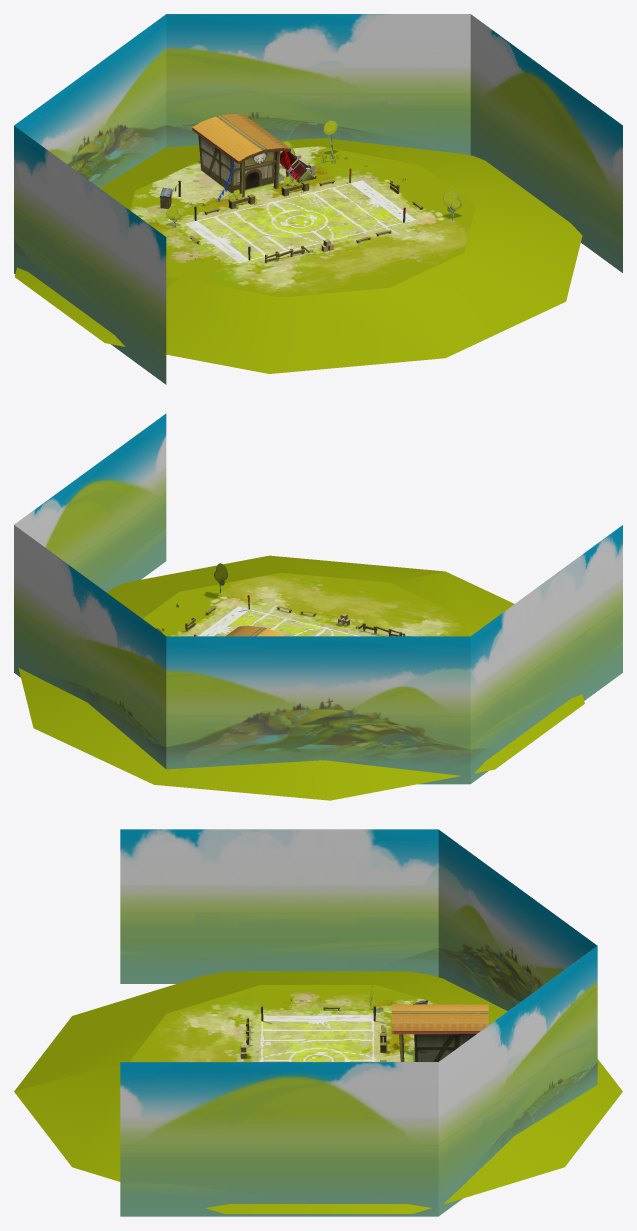
The picture shows the model from 3 angles, top to bottom: view 1: azimuth 30°, elevation 25°; view 2: azimuth 150°, elevation 25°; view 3: azimuth 270°, elevation 25°; orthographic projection. The views are drawn at different scales.
Parts seen in each view (by area): view 1: colline, env_top_3, env_top_04, env_top_1, env_top_2, env_bottom_3, env_bottom_1, env_bottom_4, grange_a_01_toit, grange_a_01, env_bottom_2, pitidrapeaux_d; view 2: colline, env_top_2, env_top_1, env_top_3, env_top_04, env_bottom_2, env_bottom_1, env_bottom_3, env_bottom_4; view 3: colline, env_top_1, env_top_04, env_top_3, env_top_2, env_bottom_4, env_bottom_1, env_bottom_3, grange_a_01_toit, env_bottom_2, grange_a_01.
Boxes of the visible parts, x1,y1,x2,y2 form: colline: (15,138,582,373); env_top_3: (166,14,470,119); env_top_04: (470,14,622,230); env_top_1: (14,126,166,341); env_top_2: (14,14,166,177); env_bottom_3: (166,119,470,155); env_bottom_1: (14,231,166,384); env_bottom_4: (470,120,622,272); grange_a_01_toit: (192,114,290,164); grange_a_01: (198,135,276,192); env_bottom_2: (86,120,166,187); pitidrapeaux_d: (280,151,314,182); colline: (18,555,584,800); env_top_2: (166,636,470,741); env_top_1: (470,525,622,741); env_top_3: (14,525,166,741); env_top_04: (14,413,166,577); env_bottom_2: (166,741,470,784); env_bottom_1: (470,630,622,783); env_bottom_3: (14,630,166,768); env_bottom_4: (86,519,166,592); colline: (14,971,622,1213); env_top_1: (120,829,438,939); env_top_04: (120,1062,438,1172); env_top_3: (438,946,597,1171); env_top_2: (438,830,597,1000); env_bottom_4: (120,1172,438,1216); env_bottom_1: (120,939,438,983); env_bottom_3: (438,1056,597,1215); grange_a_01_toit: (391,1004,488,1034); env_bottom_2: (438,940,521,1010); grange_a_01: (414,1034,476,1061).
Bounding box in the file's own units: 16858 × 17726 × 4964.
Materials: 18 (18 with a texture image).
